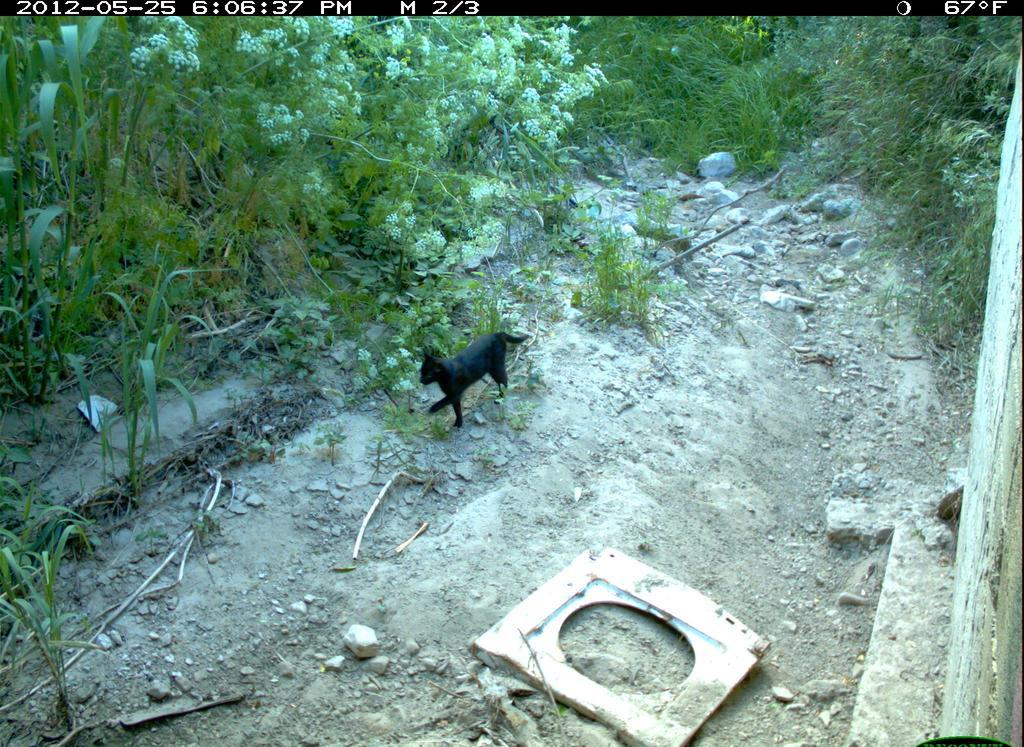cat: (413, 329, 530, 433)
